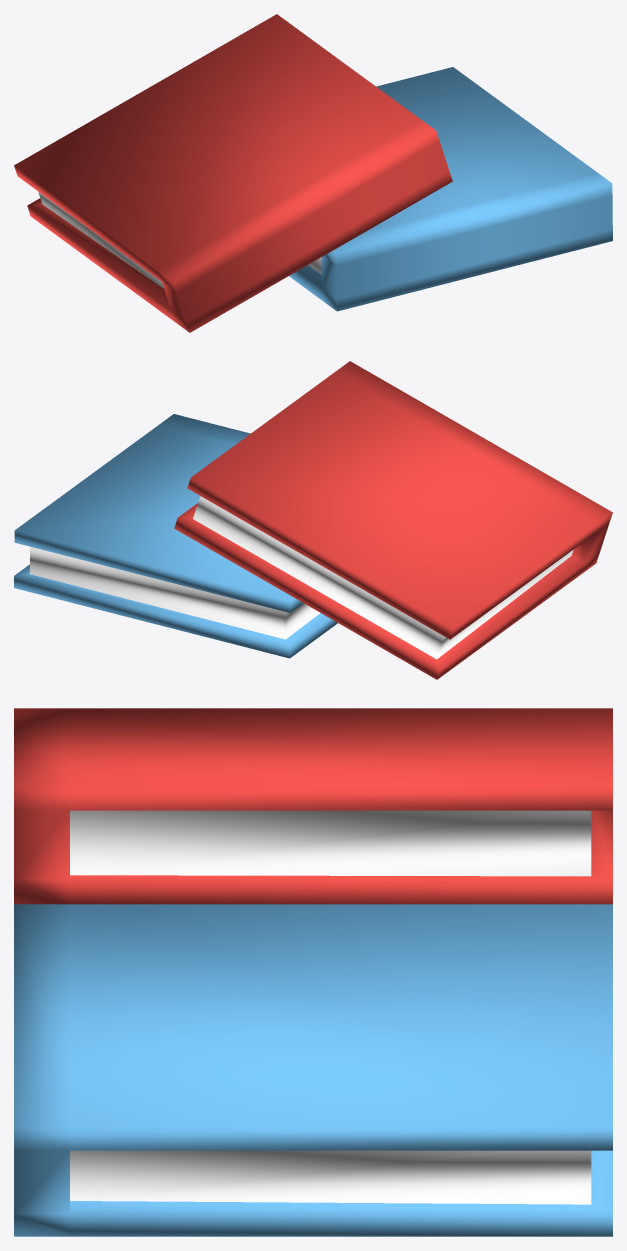
File: Props_Book_02.fbx
The picture shows the model from 3 angles, top to bottom: view 1: azimuth 30°, elevation 25°; view 2: azimuth 150°, elevation 25°; view 3: azimuth 270°, elevation 25°; orthographic projection. The views are drawn at different scales.
Visible parts, largest first — view 1: Props_Book_02; view 2: Props_Book_02; view 3: Props_Book_02.
Part boxes in pixels (bbox=[...]): Props_Book_02: bbox=[14, 14, 612, 332]; Props_Book_02: bbox=[14, 361, 612, 679]; Props_Book_02: bbox=[14, 708, 612, 1236].
Bounding box in the file's own units: 80.66 × 27.49 × 50.6.
